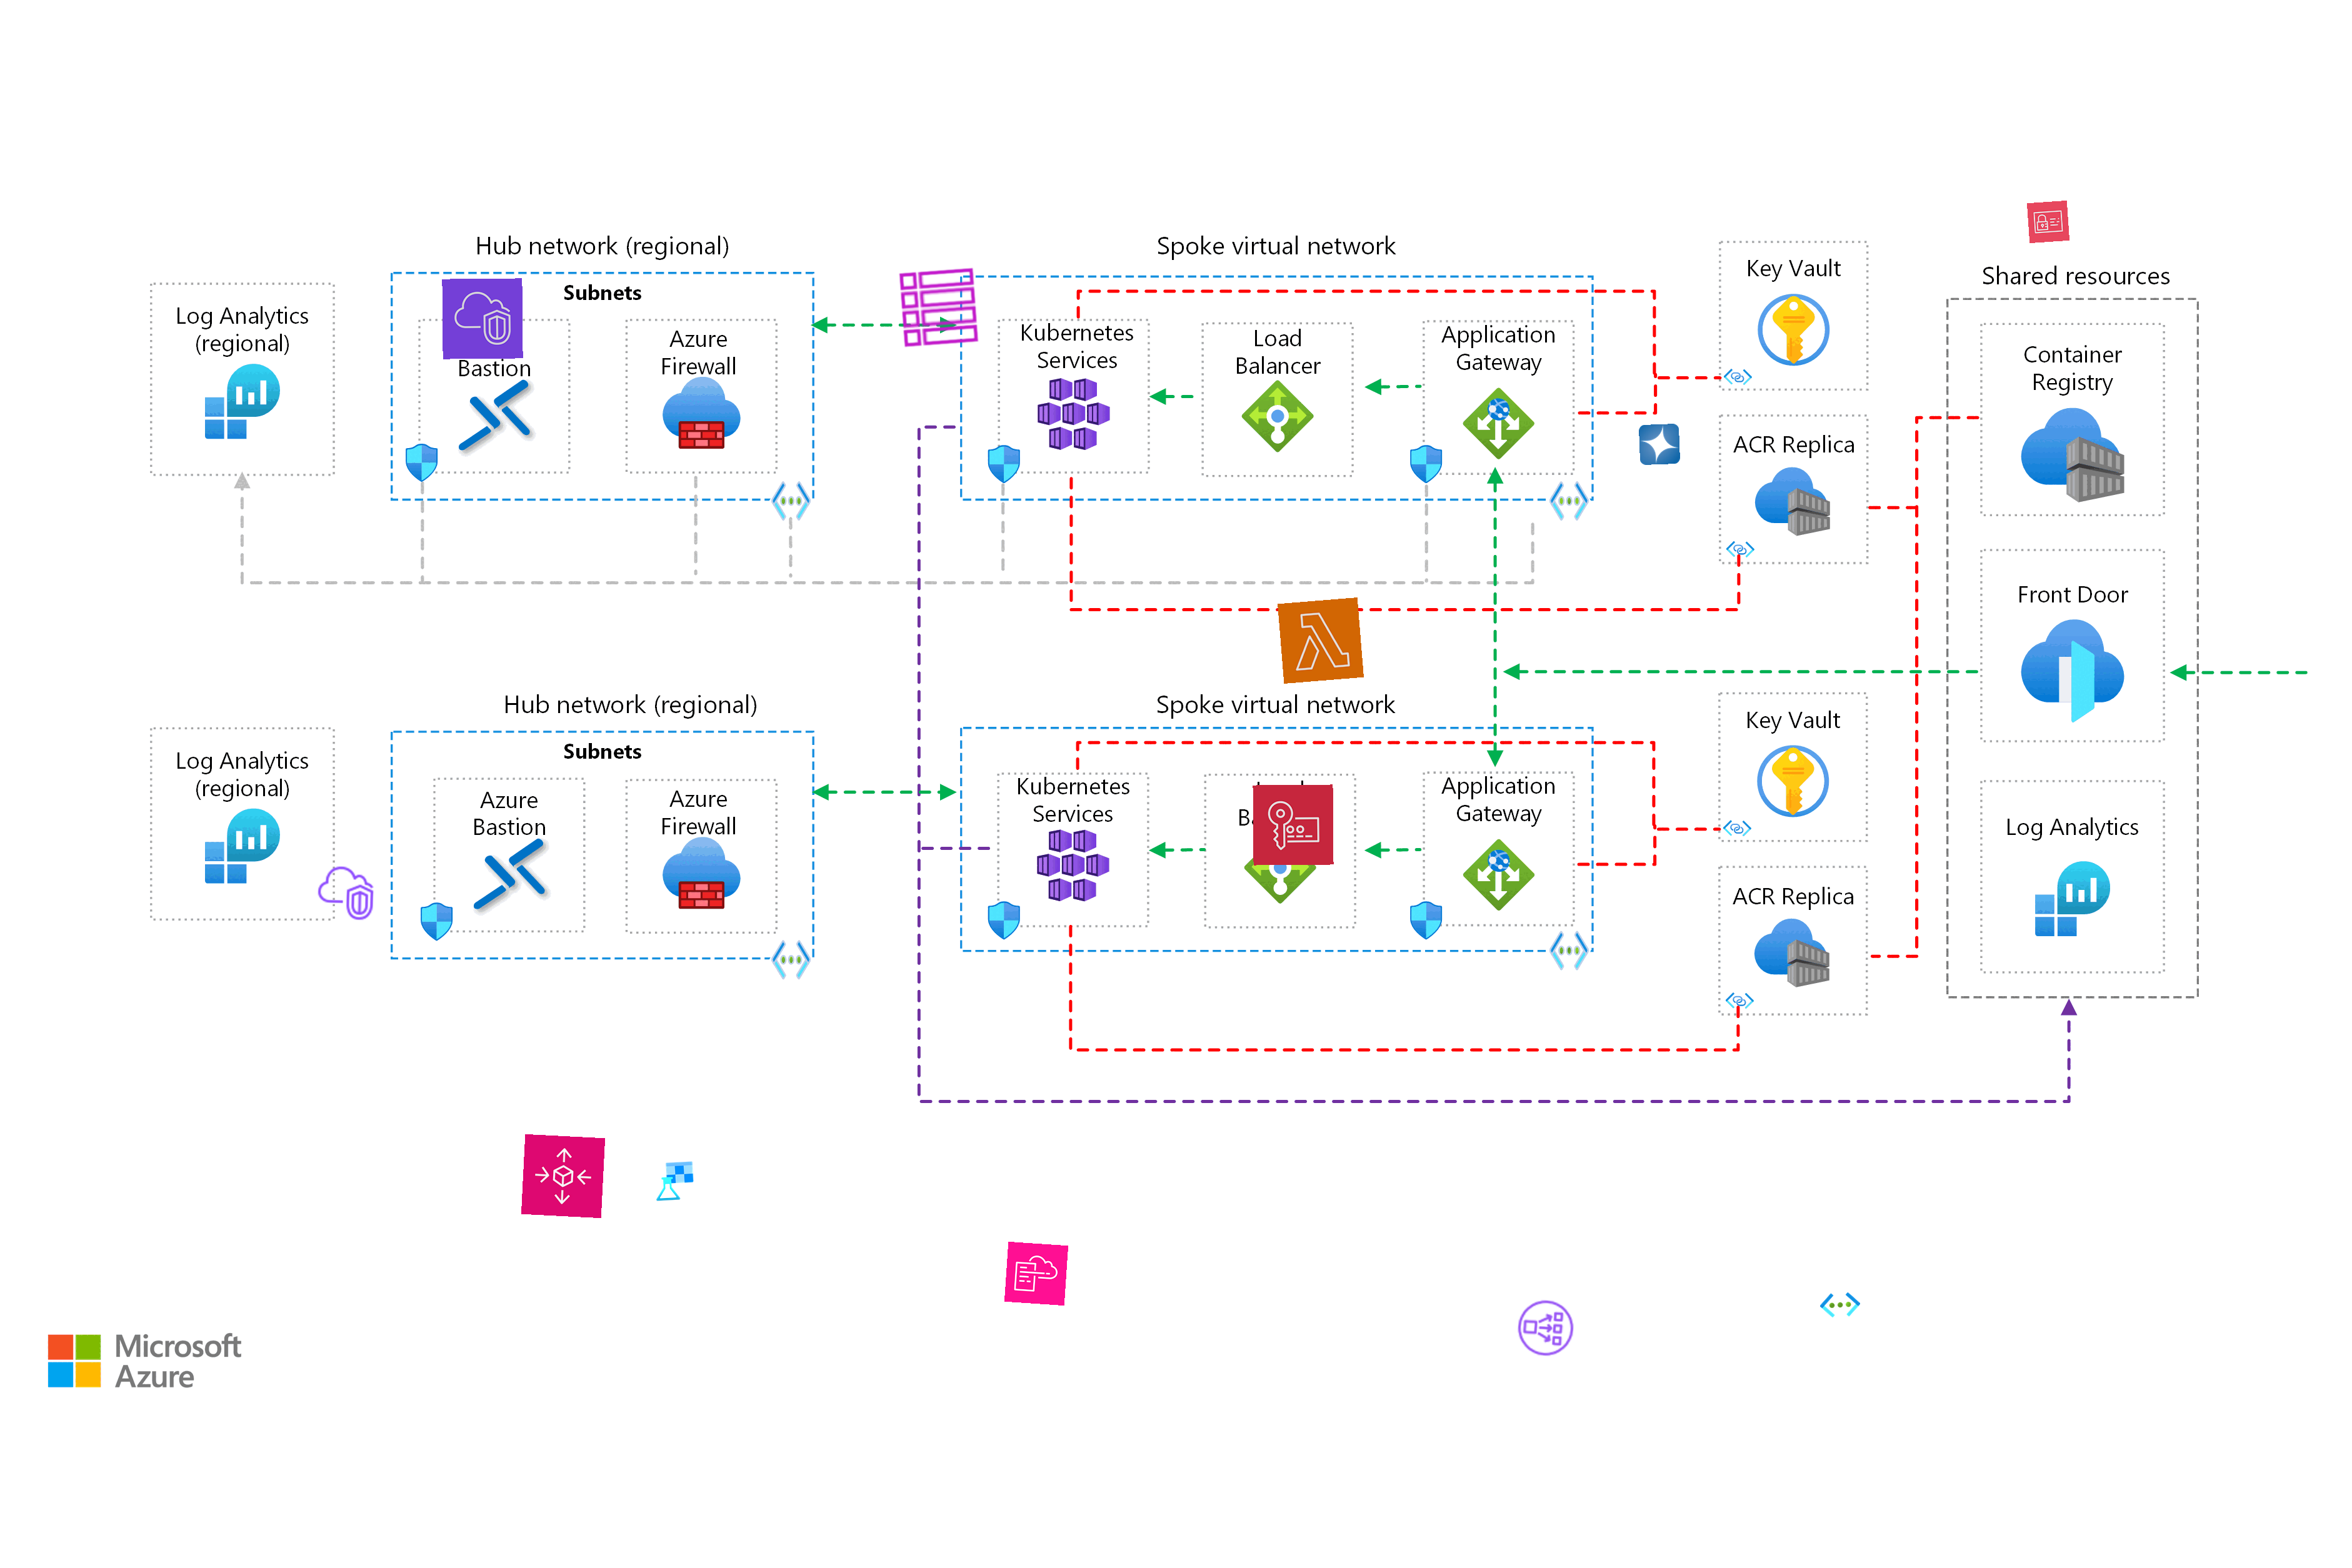aws_amazon_virtual_private_cloud: (443, 278, 523, 359)
aws_auto_scaling: (521, 1134, 605, 1218)
aws_cloudformation: (1005, 1241, 1069, 1305)
aws_dynamodb_table: (896, 264, 982, 350)
aws_elastic_load_balancing_network_load_balancer: (1514, 1295, 1578, 1360)
aws_identity_and_access_management: (2027, 199, 2070, 243)
aws_key_management_service: (1253, 784, 1333, 866)
aws_lambda: (1277, 597, 1363, 684)
aws_vpc_virtual_private_cloud_vpc: (315, 861, 376, 924)
azure_machine_learning_studio_workspaces: (653, 1160, 696, 1202)
azure_openai: (1638, 423, 1680, 465)
azure_virtual_networks: (1818, 1284, 1862, 1326)
